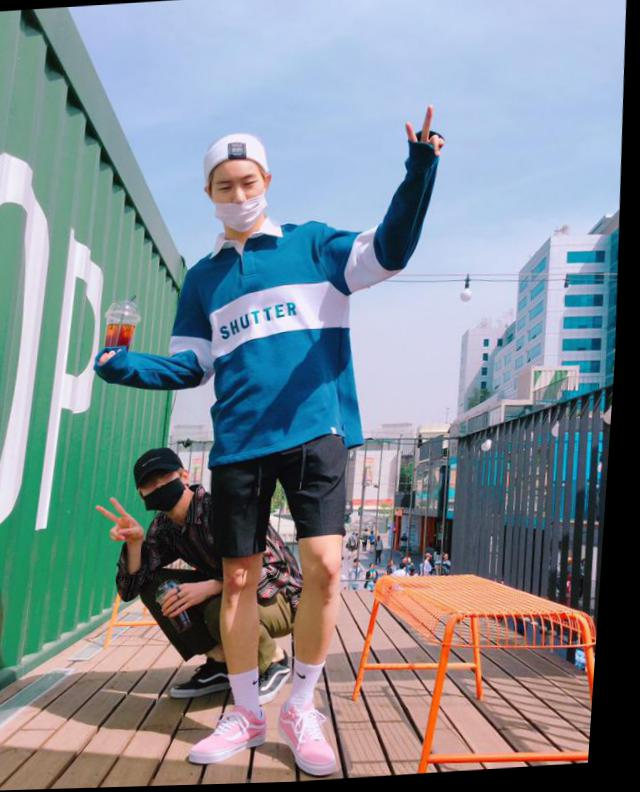WRONG: (210, 173, 273, 234), (145, 465, 197, 515)
